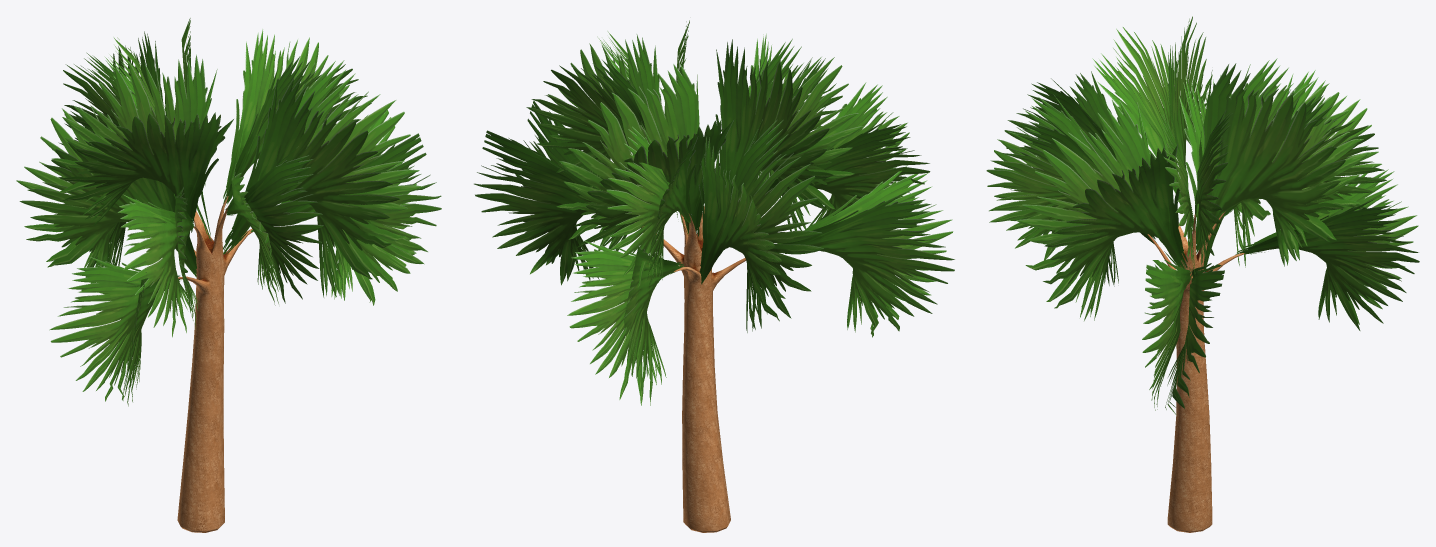
The model's file is PalmTree.fbx.
3 views of the same model, side by side, from view 1: azimuth 30°, elevation 25°; view 2: azimuth 150°, elevation 25°; view 3: azimuth 270°, elevation 25° (orthographic).
Visible parts, largest first — view 1: LeafChunk10, LeafChunk7, Trunk, LeafChunk9, LeafChunk1, LeafChunk6, LeafChunk3, LeafChunk2, LeafChunk, LeafChunk4, LeafChunk8, LeafChunk5; view 2: LeafChunk9, LeafChunk7, LeafChunk8, LeafChunk1, Trunk, LeafChunk, LeafChunk5, LeafChunk3, LeafChunk2, LeafChunk4, LeafChunk6, LeafChunk10; view 3: LeafChunk8, LeafChunk10, LeafChunk5, Trunk, LeafChunk7, LeafChunk6, LeafChunk, LeafChunk3, LeafChunk4, LeafChunk2, LeafChunk9.
Boxes of the visible parts, left/top/right/bottom form: LeafChunk10: left=223, top=60, right=423, bottom=297; LeafChunk7: left=52, top=54, right=233, bottom=238; Trunk: left=177, top=196, right=252, bottom=532; LeafChunk9: left=16, top=89, right=196, bottom=283; LeafChunk1: left=49, top=256, right=181, bottom=406; LeafChunk6: left=225, top=146, right=323, bottom=305; LeafChunk3: left=223, top=29, right=371, bottom=205; LeafChunk2: left=118, top=187, right=198, bottom=337; LeafChunk: left=250, top=110, right=441, bottom=305; LeafChunk4: left=63, top=31, right=166, bottom=133; LeafChunk8: left=104, top=18, right=211, bottom=241; LeafChunk5: left=51, top=108, right=126, bottom=277; LeafChunk9: left=698, top=119, right=823, bottom=332; LeafChunk7: left=715, top=38, right=863, bottom=231; LeafChunk8: left=556, top=64, right=733, bottom=251; LeafChunk1: left=774, top=165, right=954, bottom=337; Trunk: left=635, top=206, right=746, bottom=532; LeafChunk: left=474, top=100, right=641, bottom=285; LeafChunk5: left=567, top=240, right=684, bottom=405; LeafChunk3: left=526, top=34, right=665, bottom=191; LeafChunk2: left=755, top=82, right=930, bottom=226; LeafChunk4: left=606, top=124, right=698, bottom=288; LeafChunk6: left=748, top=33, right=842, bottom=197; LeafChunk10: left=597, top=20, right=689, bottom=230; LeafChunk8: left=1196, top=58, right=1370, bottom=266; LeafChunk10: left=1016, top=100, right=1187, bottom=320; LeafChunk5: left=1235, top=165, right=1419, bottom=330; Trunk: left=1147, top=211, right=1244, bottom=532; LeafChunk7: left=1092, top=16, right=1212, bottom=231; LeafChunk6: left=986, top=95, right=1115, bottom=260; LeafChunk: left=1142, top=260, right=1224, bottom=414; LeafChunk3: left=1162, top=110, right=1232, bottom=274; LeafChunk4: left=1220, top=70, right=1386, bottom=219; LeafChunk2: left=1004, top=71, right=1121, bottom=210; LeafChunk9: left=1179, top=75, right=1290, bottom=269.
Size of the model in its own units: 19.43 by 21.12 by 17.46.
Materials: 2 (2 with a texture image).
